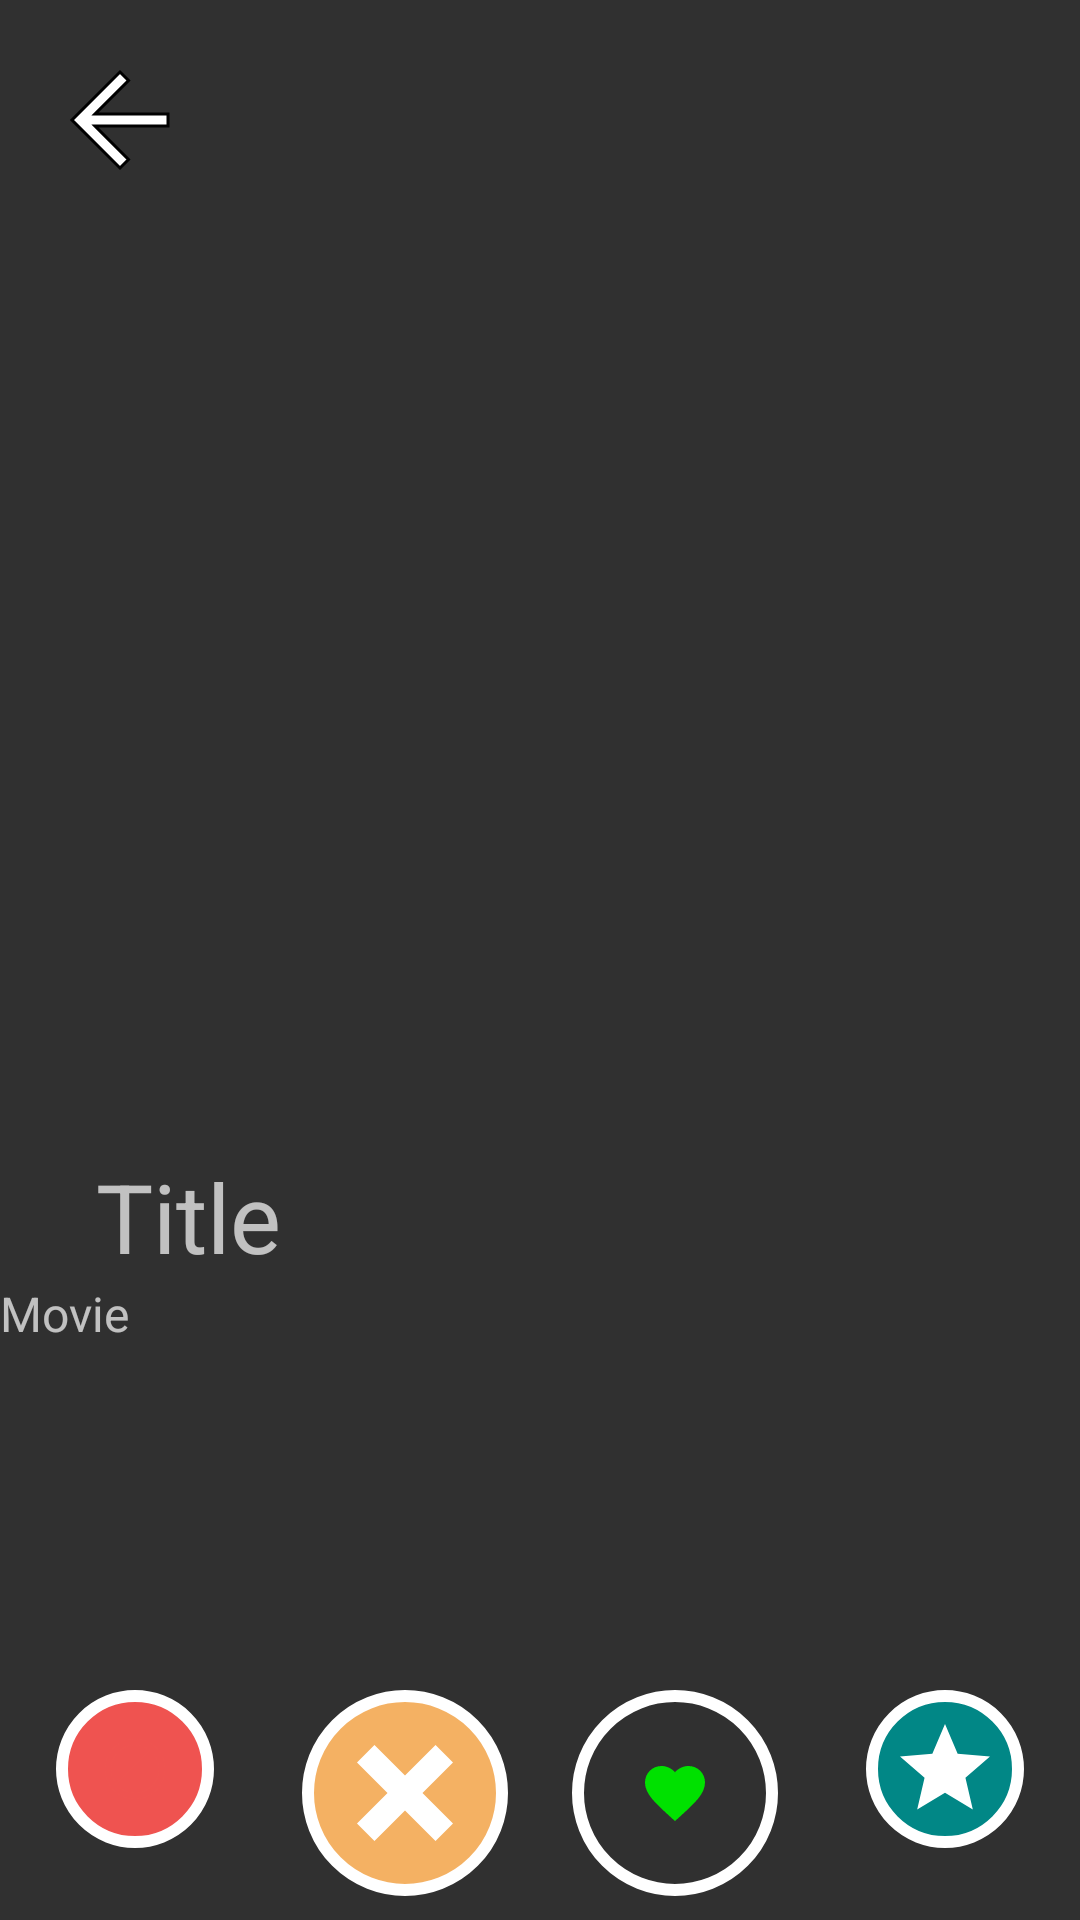

Where to tap for icons on this 1080×1920 app screen, as point (x, y):
arrow back: point (119, 120)
Like: point (675, 1793)
Not Today: point (405, 1793)
Super like: point (945, 1769)
